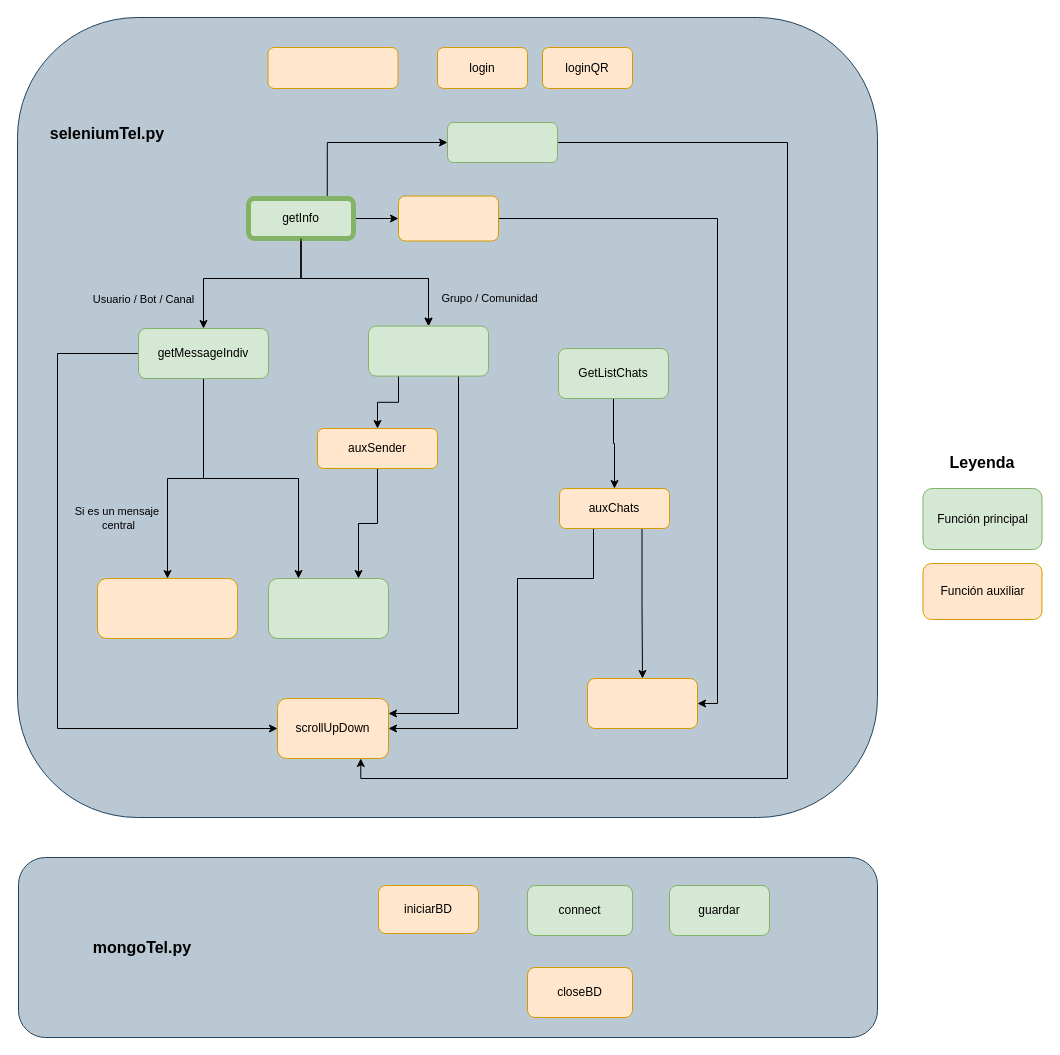
Image size: 1060x1055. Some labels were removed from this diagram. The shapes that lost their labels are listed below. From the top down, each one's centre as x and y in pixels, then its label:
point 332,67: newDriverChrome
point 502,142: getInfoChat
point 448,218: selectChat
point 428,350: getMessageGroup
point 167,608: auxMessageSyssteem
point 328,608: getMessage
point 642,703: openMenu
